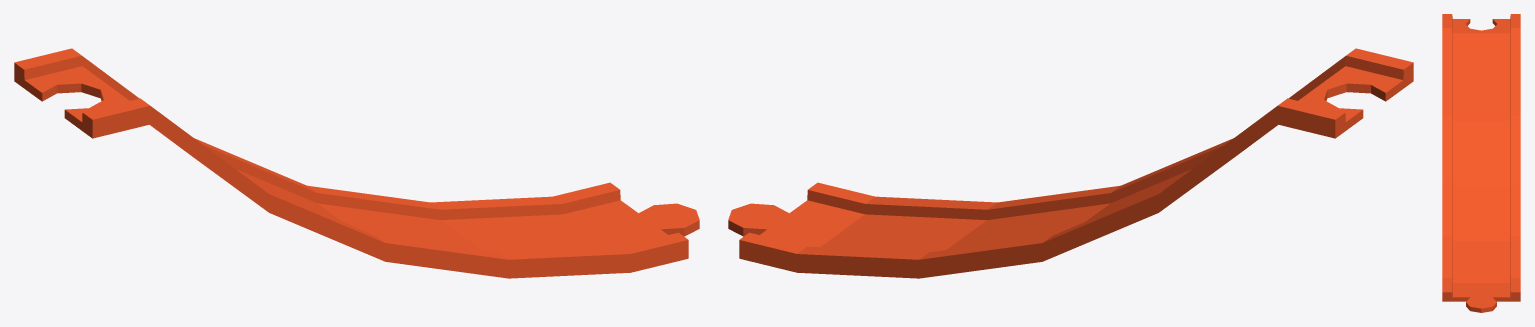
The model's file is circuit_pente.fbx.
The picture shows the model from 3 angles, left to right: view 1: azimuth 30°, elevation 25°; view 2: azimuth 150°, elevation 25°; view 3: azimuth 270°, elevation 25°; orthographic projection. The views are drawn at different scales.
Parts seen in each view (by area): view 1: Cube.004; view 2: Cube.004; view 3: Cube.004.
Part boxes in pixels (x1,y1,x2,y2): Cube.004: (14,48,699,278); Cube.004: (728,48,1413,278); Cube.004: (1442,14,1520,312).
Bounding box in the file's own units: 474 × 200 × 100.
